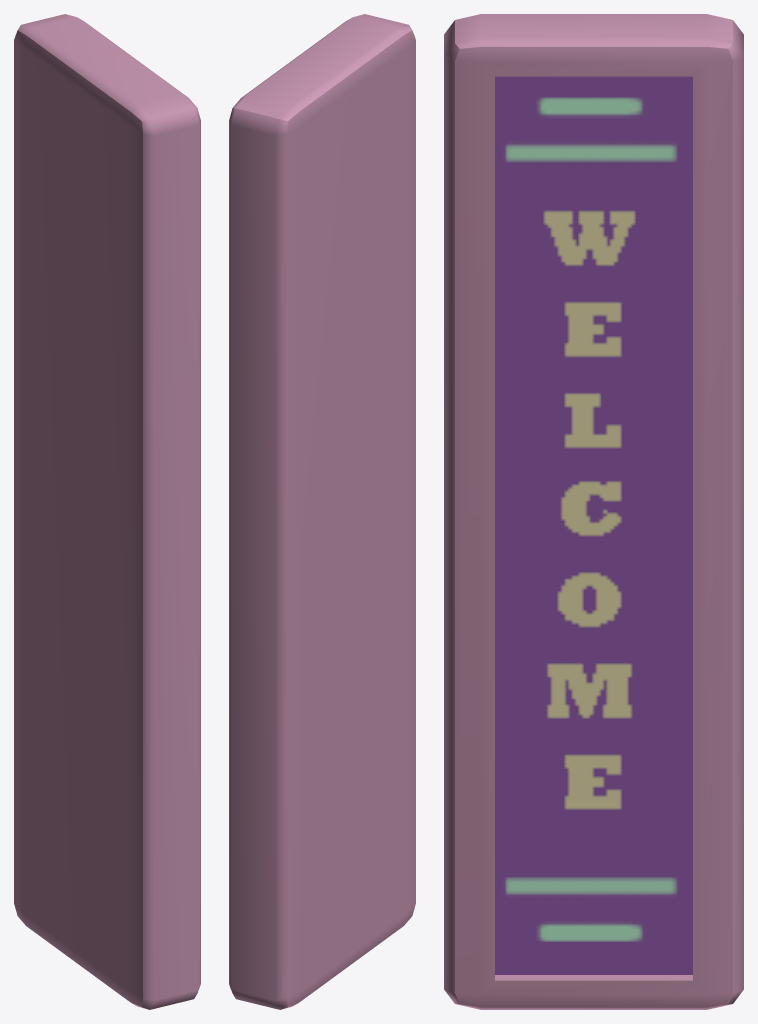
File: BuildingSign_10.fbx
The picture shows the model from 3 angles, left to right: view 1: azimuth 30°, elevation 25°; view 2: azimuth 150°, elevation 25°; view 3: azimuth 270°, elevation 25°; orthographic projection. The views are drawn at different scales.
Parts seen in each view (by area): view 1: polySurface996; view 2: polySurface996; view 3: polySurface996.
Boxes of the visible parts, x1,y1,x2,y2 form: polySurface996: (14, 14, 200, 1009); polySurface996: (229, 14, 415, 1009); polySurface996: (444, 14, 743, 1009).
Bounding box in the file's own units: 0.2228 × 3.03 × 0.8455.
